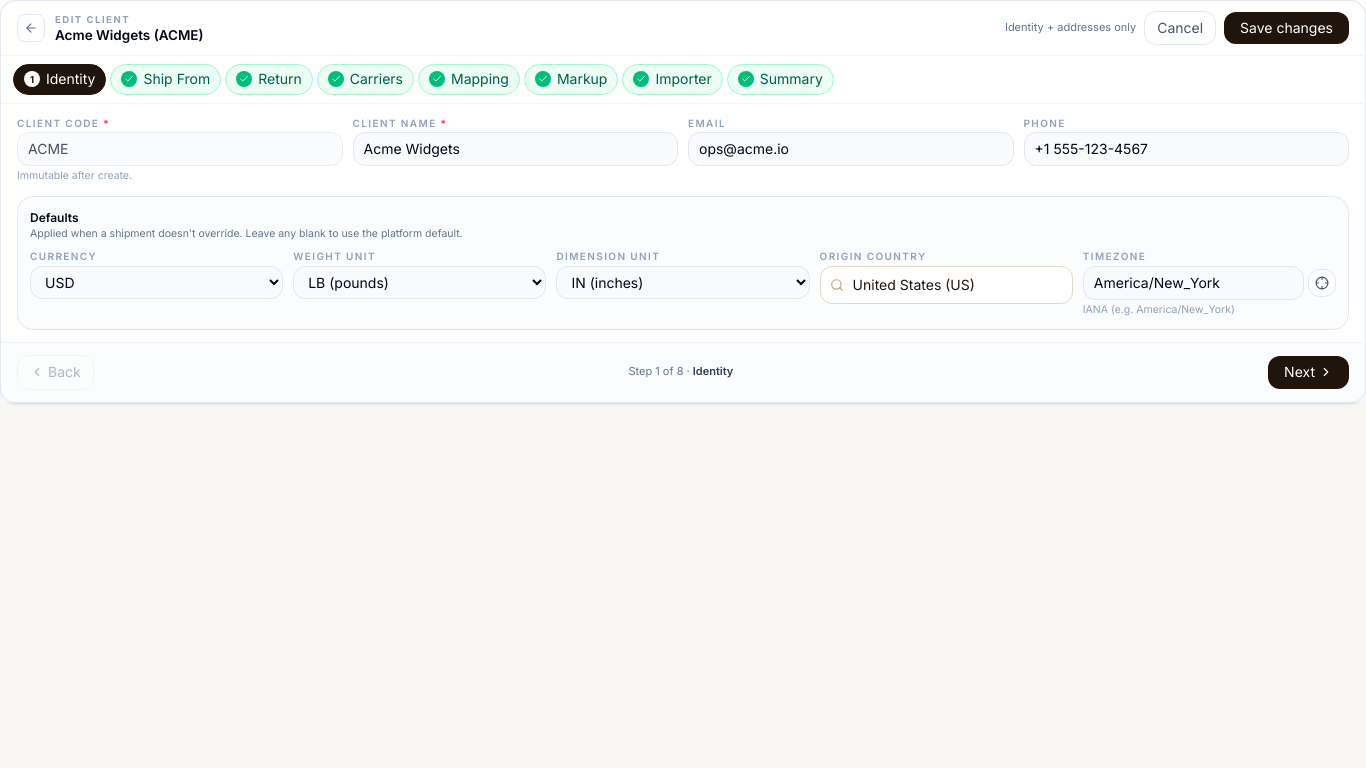
ClientEditorPage · ShipFrom · positive › CORRECTED result shows suggested-address panel with "Use suggestion" button
The width and height of the screenshot is (1366, 768).
expect the field with placeholder "MA1885" is shown: met, box [17,132,342,166]
Click the tab "Ship From" at (166, 79), box [110,64,221,95]
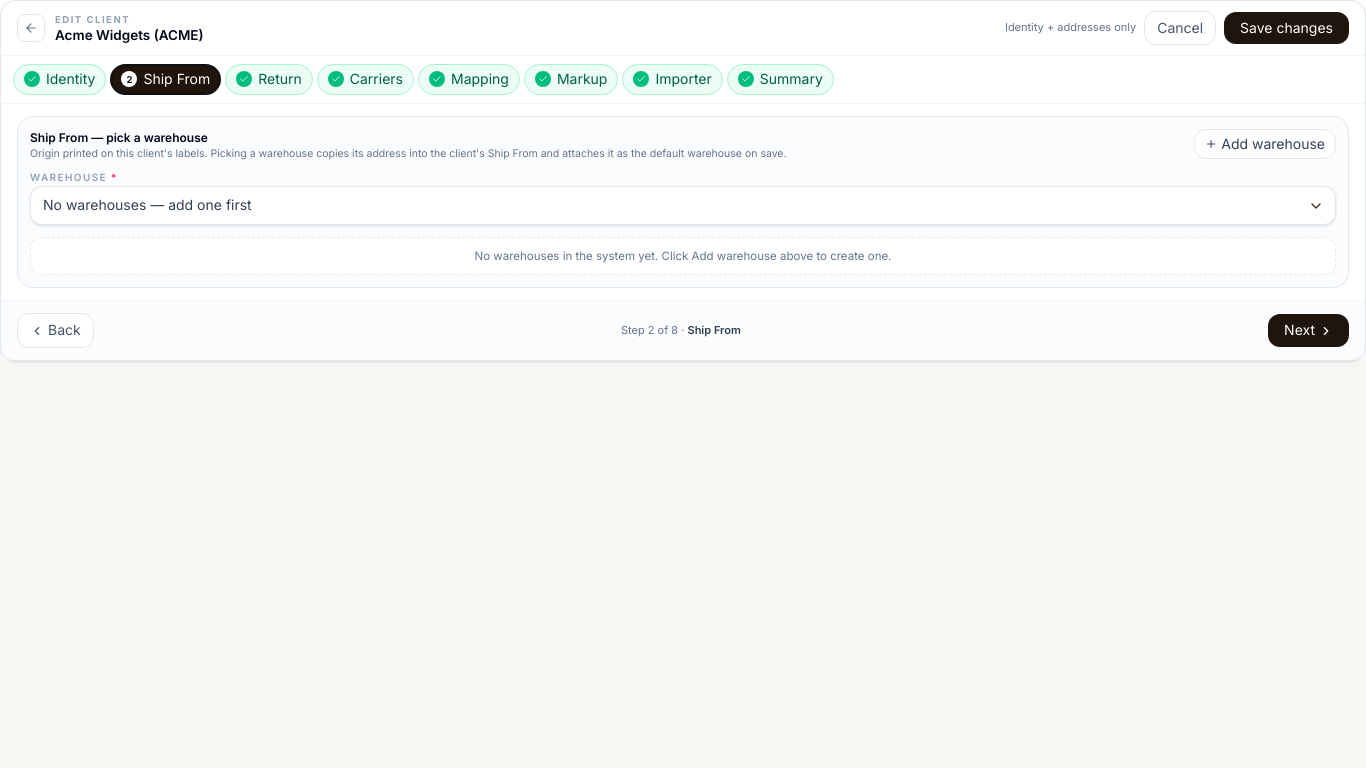
expect the heading "Ship From — pick a warehouse" is shown: met, box [30,130,208,145]
Click the button "Add warehouse" at (1265, 144), box [1194,129,1336,159]
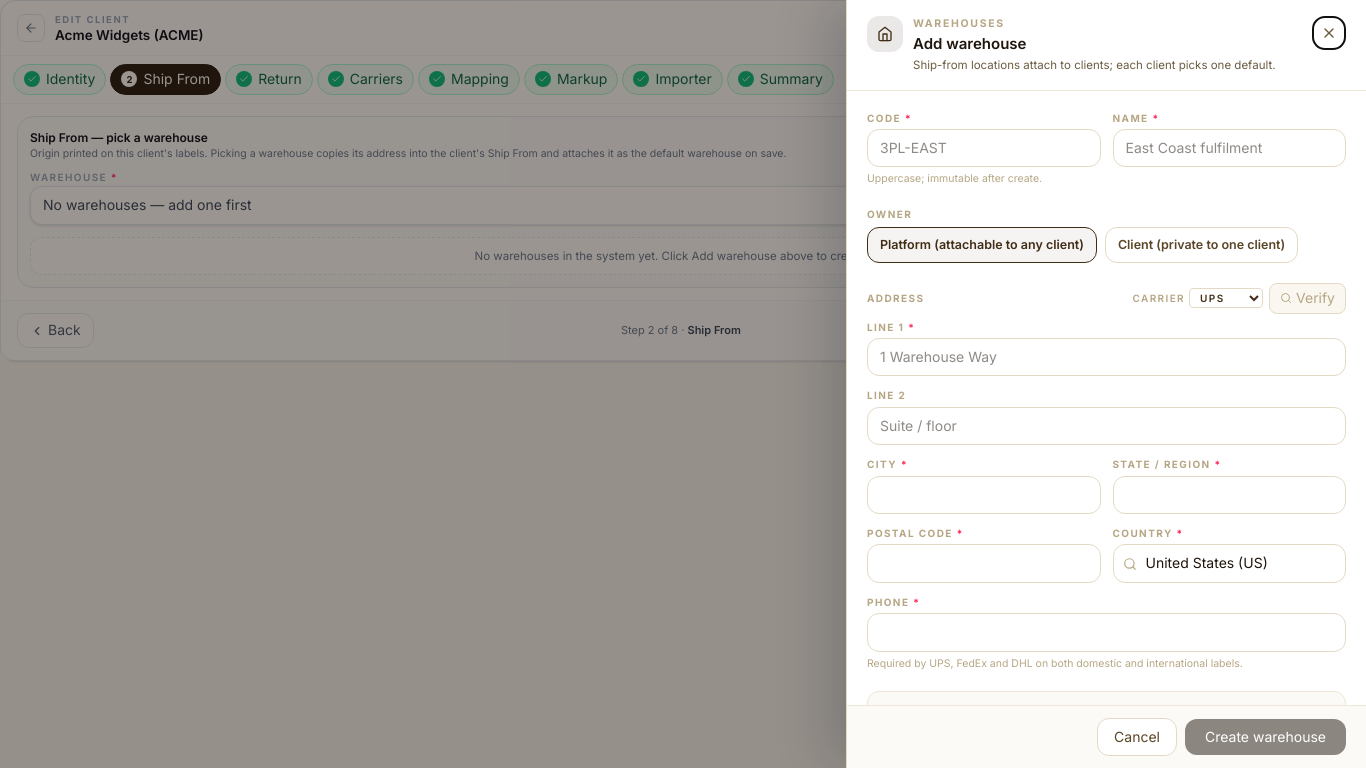
Type "124 Verify Ln" into the field with placeholder "1 Warehouse Way" at (1106, 357), box [867,338,1346,376]
Type "Denver" into the field below "City" at (984, 495), box [867,476,1100,514]
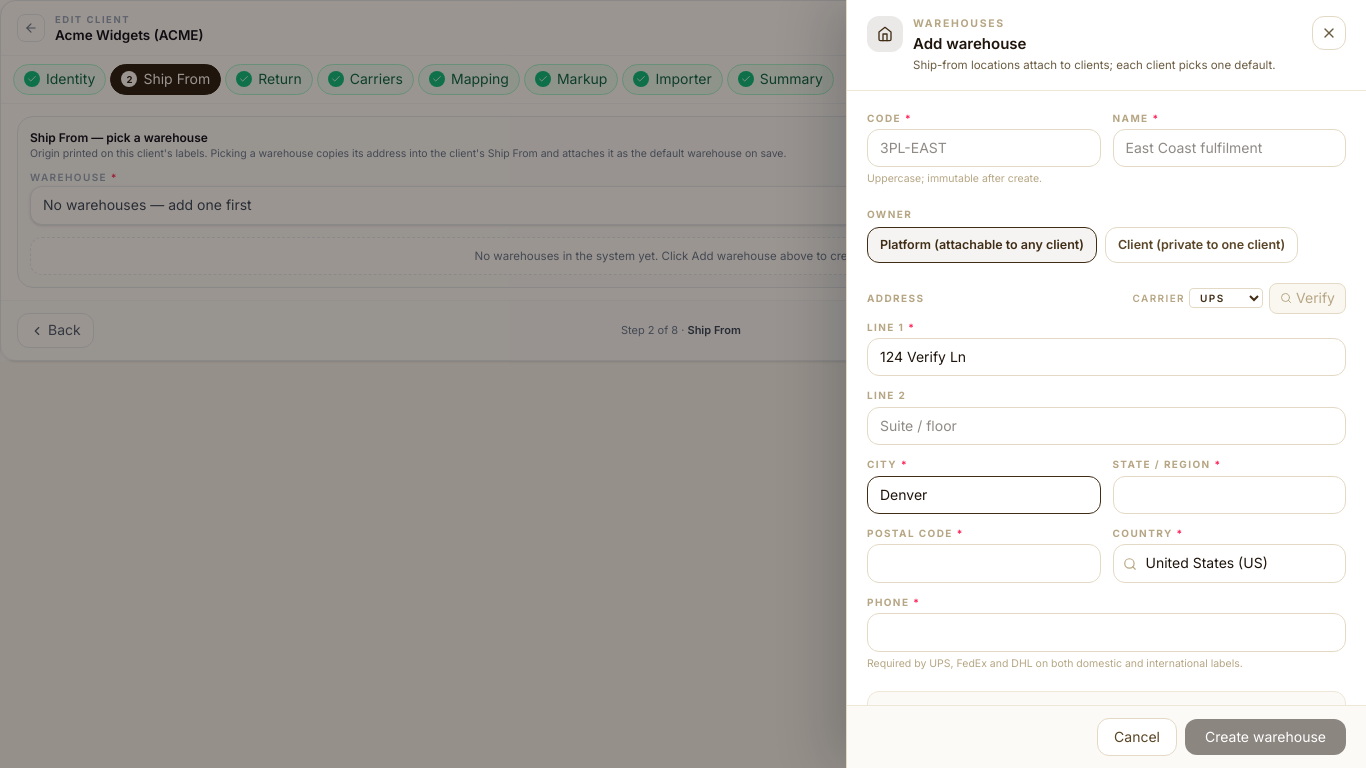
Type "CO" into the field below "State / region" at (1229, 495), box [1112,476,1346,514]
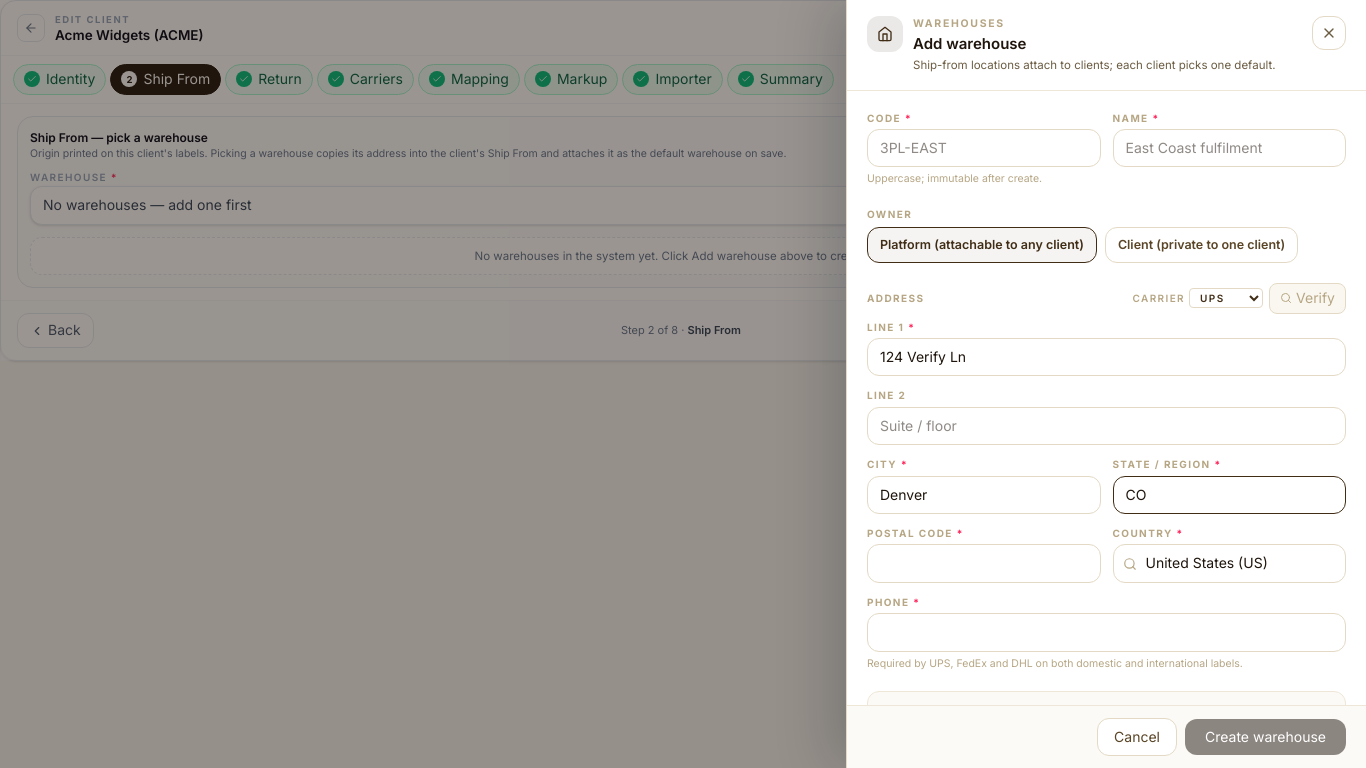
Type "80202" into the field below "Postal code" at (984, 564), box [867,544,1100,583]
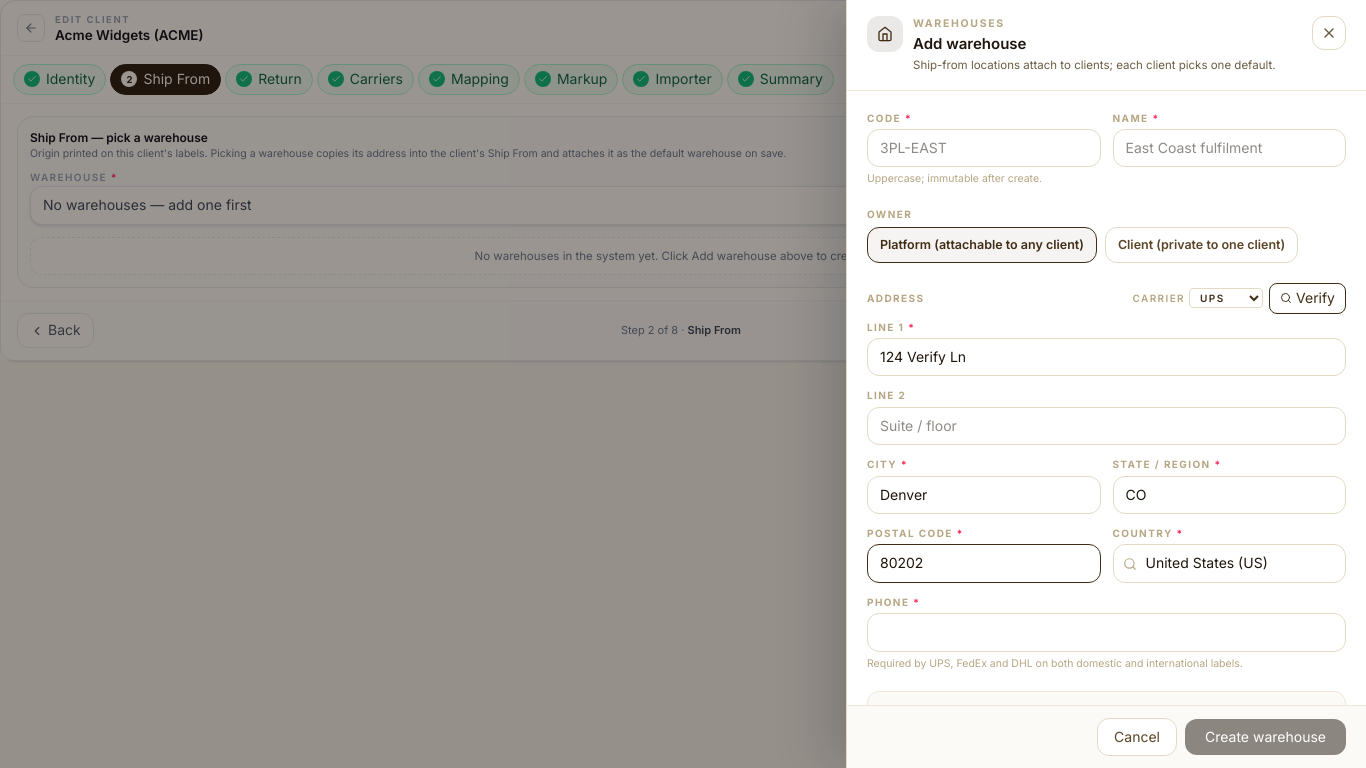
Click the button "Verify" at (1308, 298), box [1269,283,1346,314]
(page scrolled)
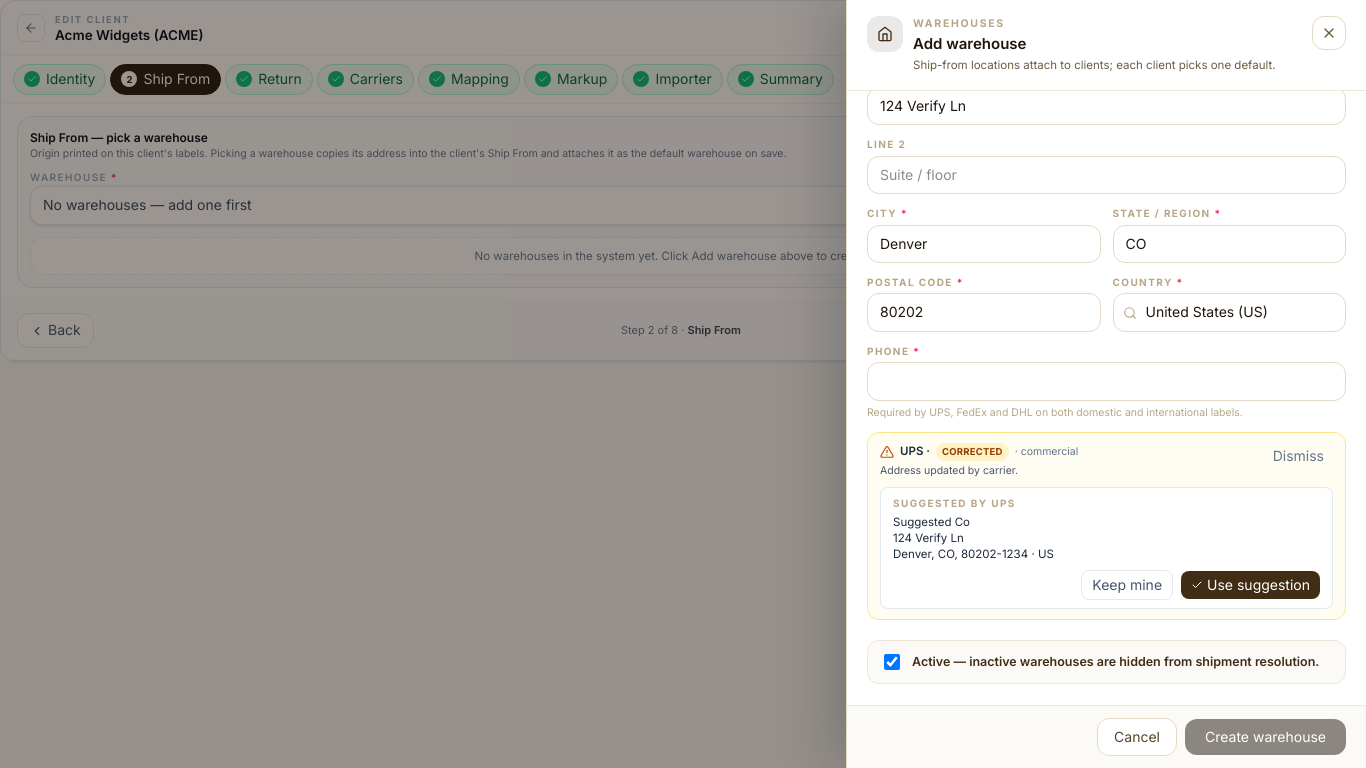
expect the text "Suggested by UPS" is shown: met, box [893,496,1016,508]
expect the button "Use suggestion" is shown: met, box [1181,571,1320,599]
expect the text "124 Verify Ln" is shown: met, box [893,531,964,545]
